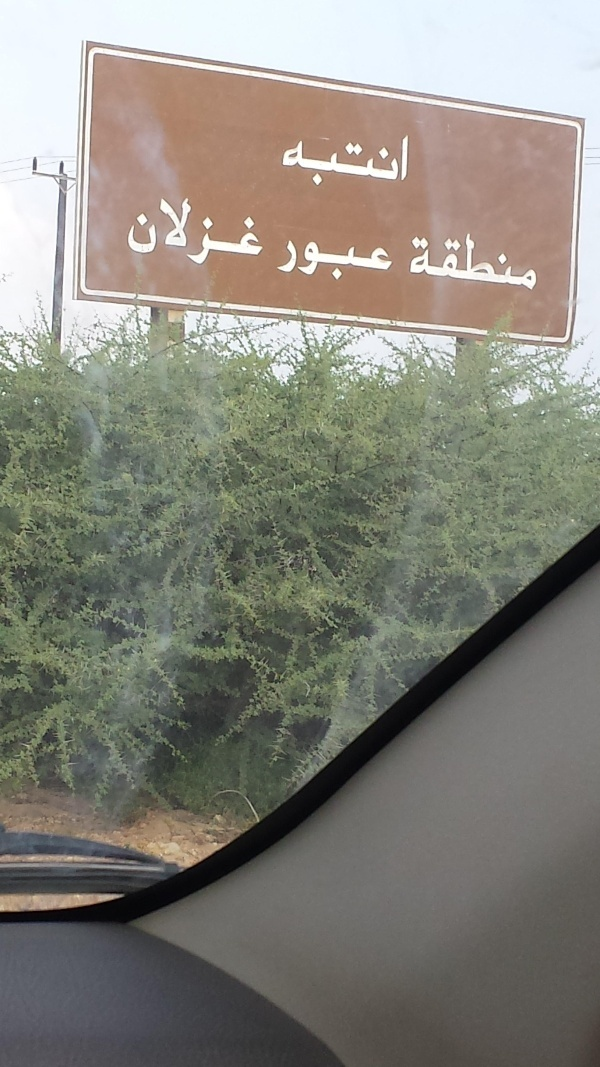text: (129, 193, 144, 268), (145, 193, 160, 268), (161, 193, 176, 268), (177, 193, 192, 268), (193, 193, 208, 268), (209, 193, 224, 268), (225, 193, 240, 268), (241, 193, 256, 268), (289, 118, 304, 192), (305, 118, 320, 192), (321, 118, 336, 192), (337, 118, 352, 192), (353, 118, 368, 192), (369, 118, 384, 192), (385, 118, 400, 192), (417, 224, 432, 291), (433, 224, 448, 291), (449, 224, 464, 291), (465, 224, 480, 291), (481, 224, 496, 291), (497, 224, 512, 291), (513, 224, 528, 291), (257, 193, 268, 268), (401, 118, 410, 192), (289, 238, 304, 282), (305, 238, 320, 282), (321, 238, 336, 282), (337, 238, 352, 282), (353, 238, 368, 282), (369, 238, 384, 282), (529, 224, 537, 291), (276, 238, 288, 282), (411, 224, 416, 291), (385, 238, 392, 282), (124, 193, 128, 268)
